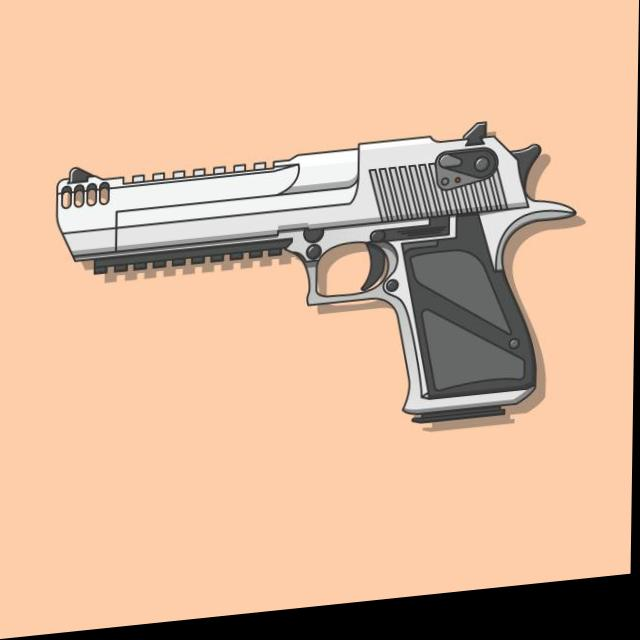handgun: (48, 126, 594, 475)
